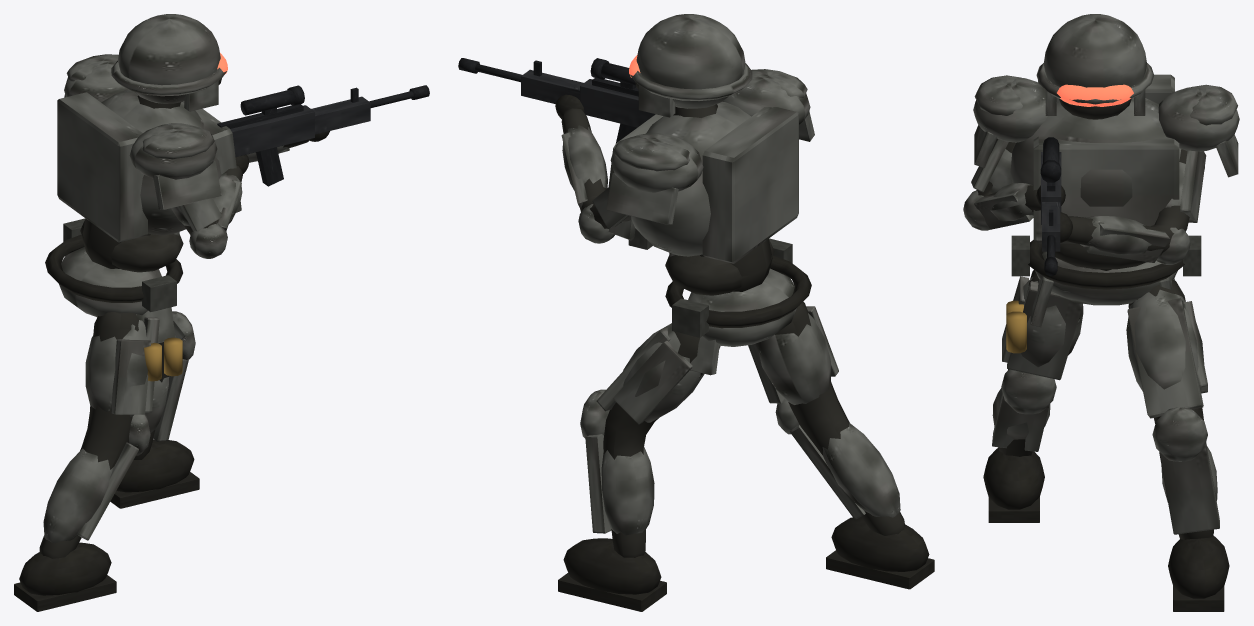
The model's file is unit_marine_2.glb.
The picture shows the model from 3 angles, left to right: view 1: azimuth 30°, elevation 25°; view 2: azimuth 150°, elevation 25°; view 3: azimuth 270°, elevation 25°; orthographic projection. The views are drawn at different scales.
Parts seen in each view (by area): view 1: unit_marine_2; view 2: unit_marine_2; view 3: unit_marine_2.
Part boxes in pixels (bbox=[...]): unit_marine_2: bbox=[14, 14, 429, 611]; unit_marine_2: bbox=[458, 14, 934, 611]; unit_marine_2: bbox=[963, 14, 1239, 611].
Size of the model in its own units: 1.54 by 1.8 by 0.8073.
Materials: 8 (6 with a texture image).
